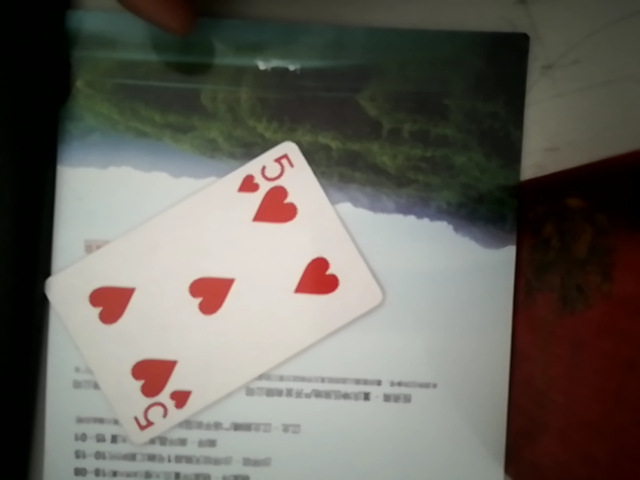hx 5: (47, 135, 380, 442)
